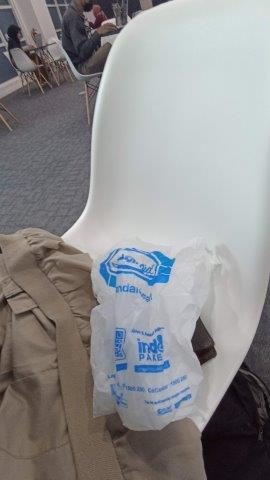plastik: (90, 238, 222, 431)
